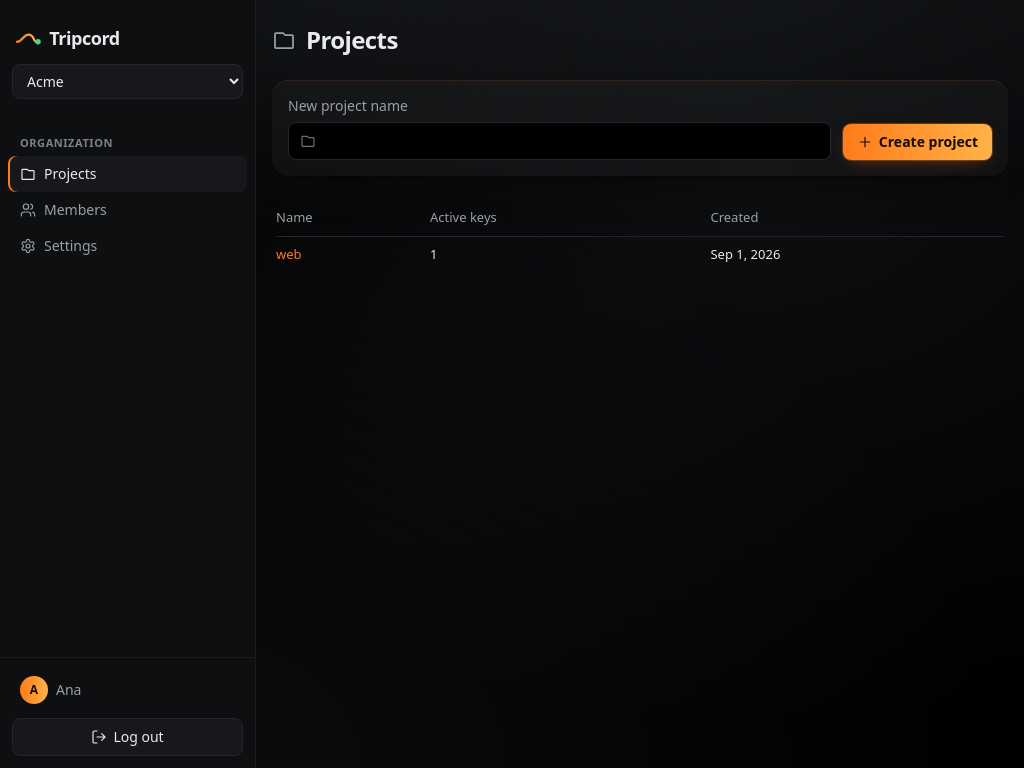
Test: app shell › logs out
Click the button "Log out": (128,737) [12, 718, 243, 756]
(page scrolled)
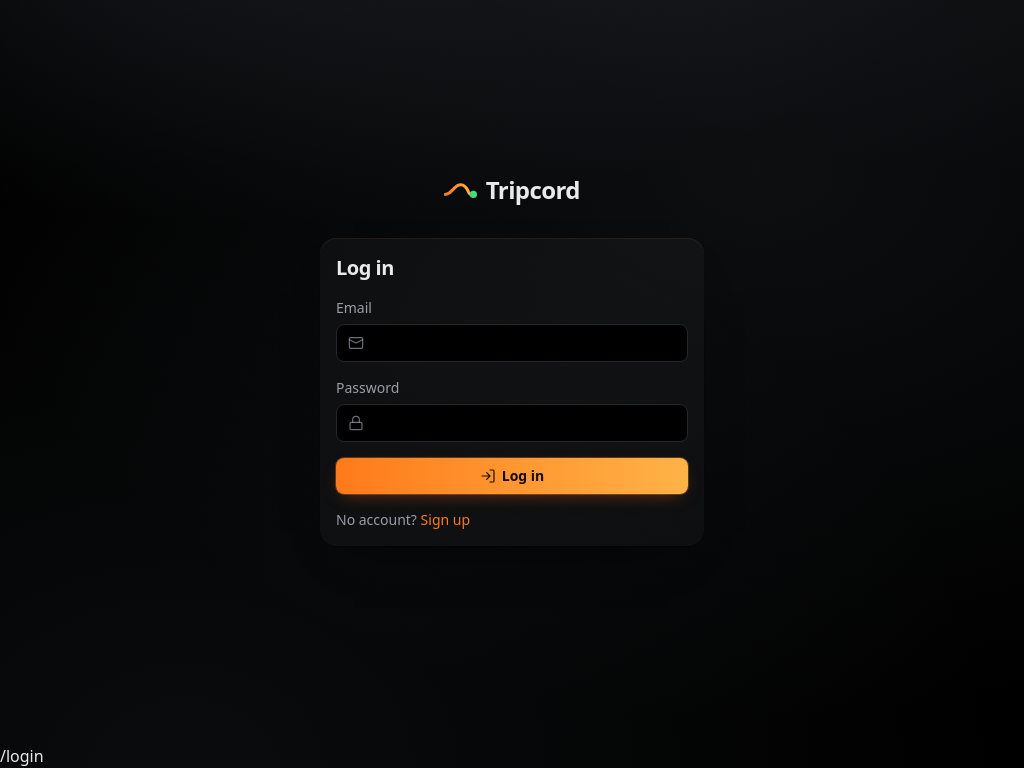
Result: the text with test id "location" reads "/login" at [0, 745, 44, 767]
